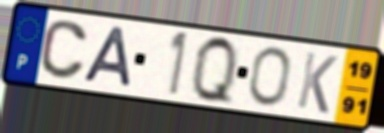1: (167, 29, 191, 100)
A: (79, 25, 134, 90)
C: (37, 18, 90, 82)
K: (294, 49, 340, 117)
O: (247, 44, 293, 109)
Q: (190, 32, 239, 109)
